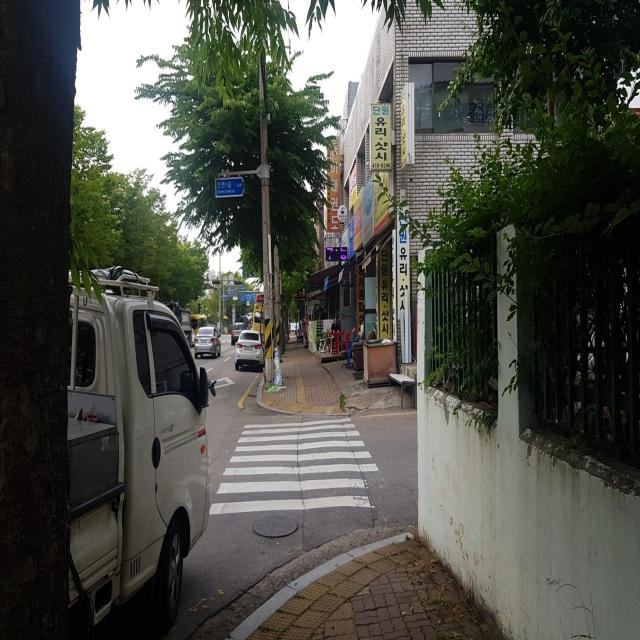횡단보도: (207, 416, 387, 518)
